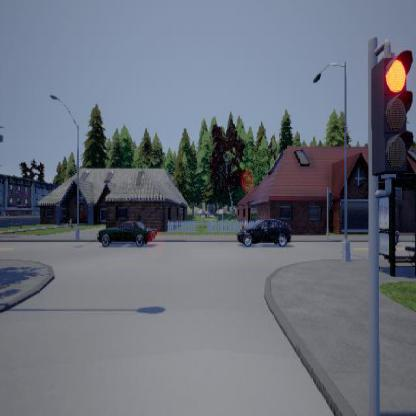traffic_light_red: (370, 38, 413, 197)
vehicle: (96, 220, 155, 246), (236, 218, 290, 246)
